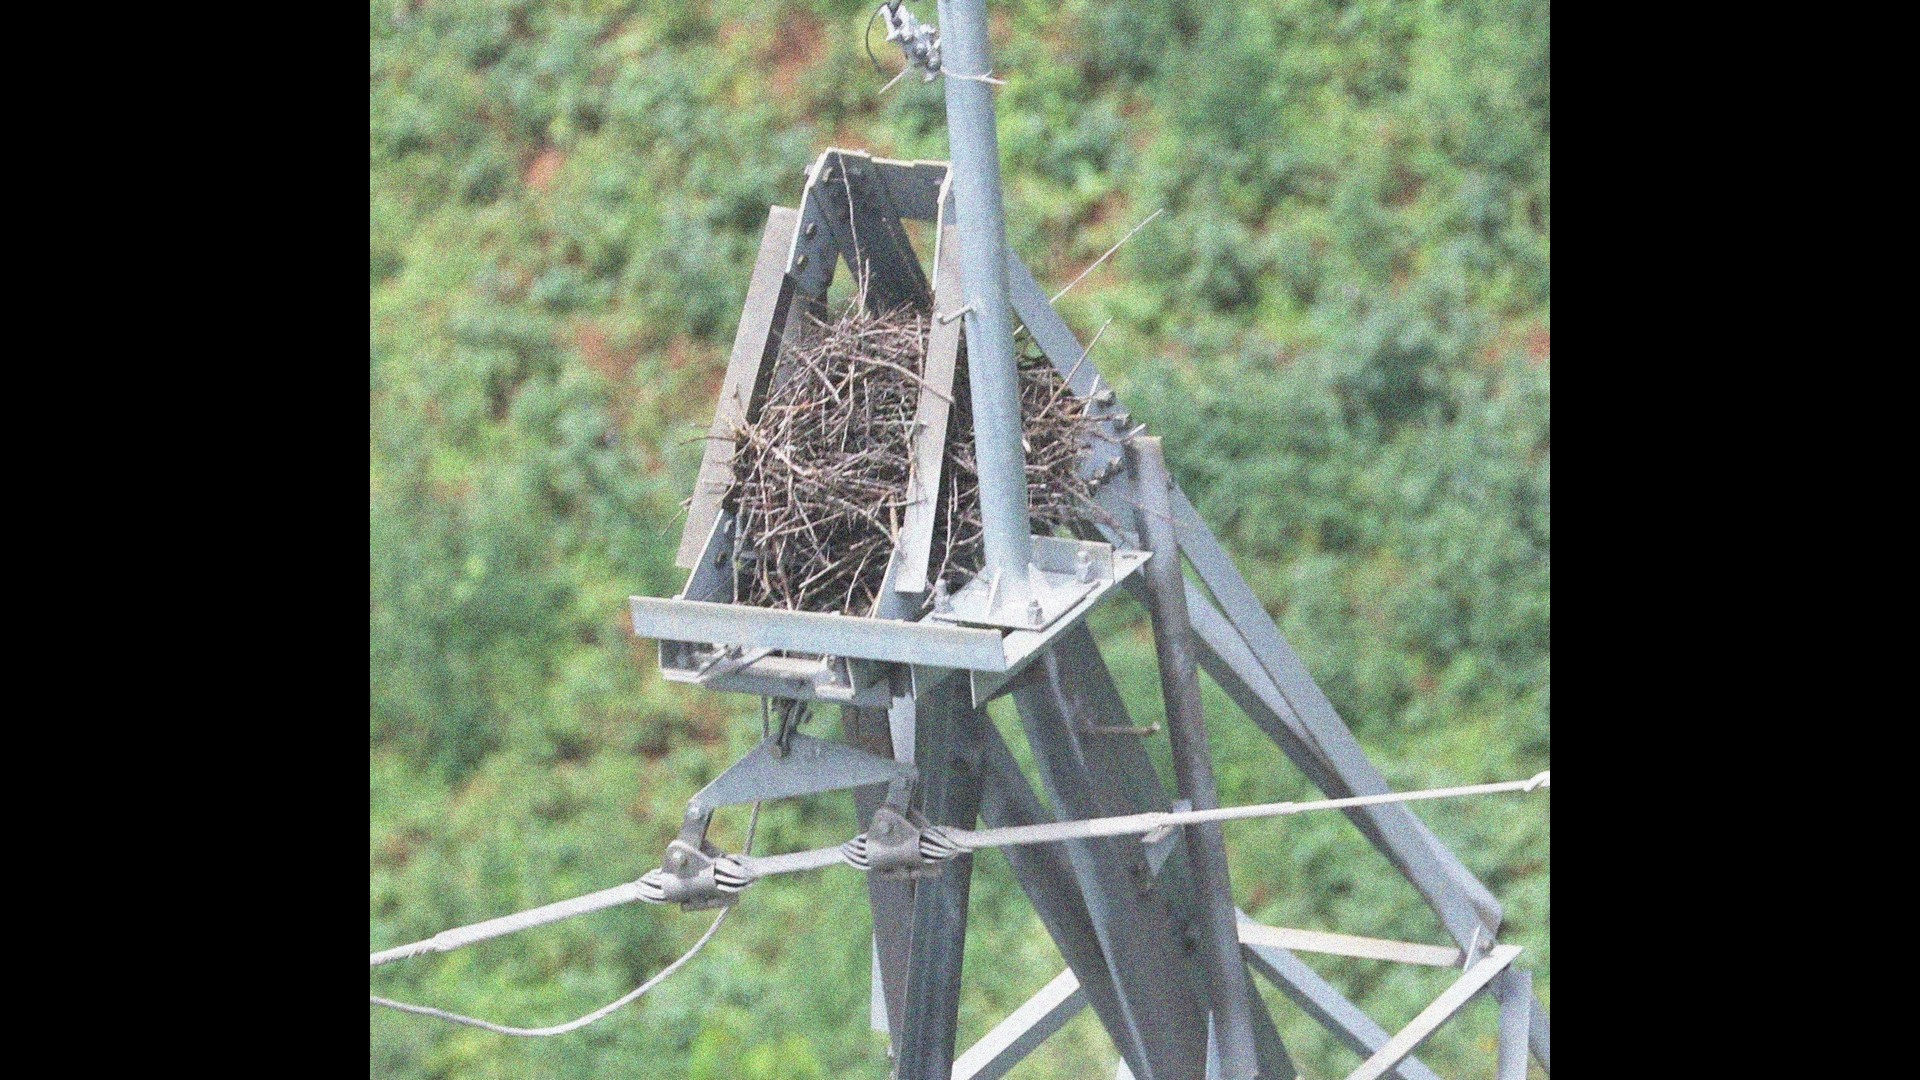niaowo: (705, 286, 1112, 620)
